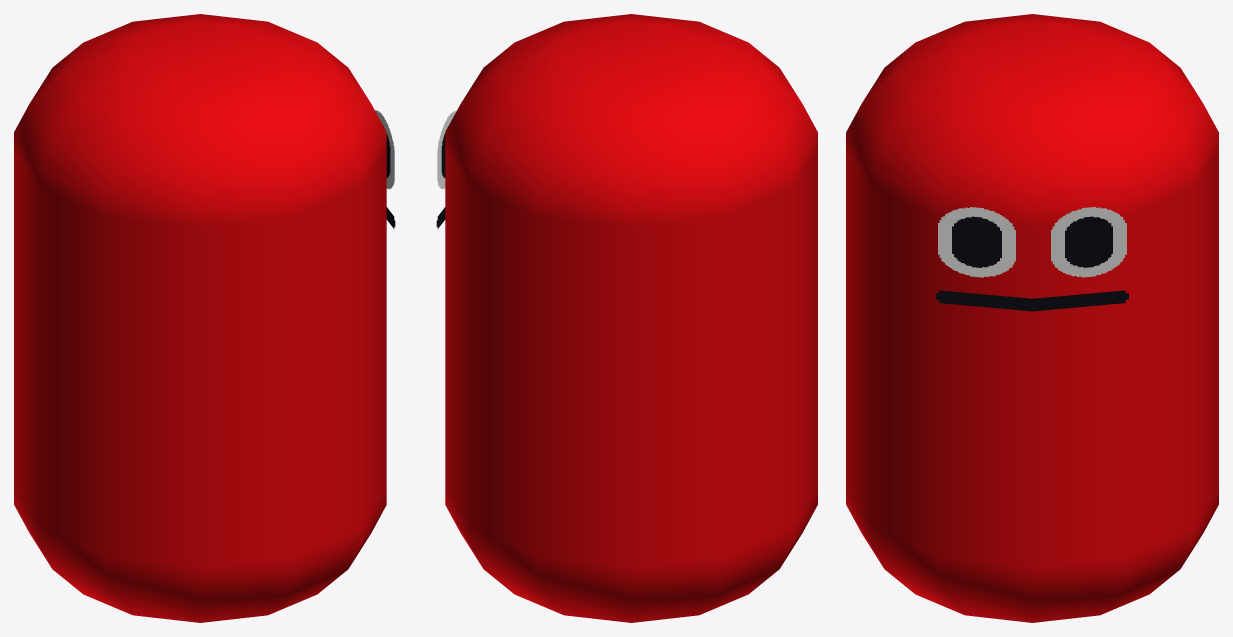
File: TestCharacter.glb
3 views of the same model, side by side, from view 1: azimuth 30°, elevation 25°; view 2: azimuth 150°, elevation 25°; view 3: azimuth 270°, elevation 25° (orthographic).
Parts seen in each view (by area): view 1: BeanBody, EyesPlane; view 2: BeanBody, EyesPlane; view 3: BeanBody, EyesPlane, MouthPlane.
Part boxes in pixels (x1,y1,x2,y2): BeanBody: (14, 14, 386, 622); EyesPlane: (375, 110, 394, 189); BeanBody: (445, 14, 817, 622); EyesPlane: (437, 110, 456, 189); BeanBody: (846, 14, 1218, 622); EyesPlane: (938, 207, 1126, 277); MouthPlane: (935, 290, 1128, 311).
Bounding box in the file's own units: 2.02 × 3.14 × 2.
Materials: 3 (2 with a texture image).
